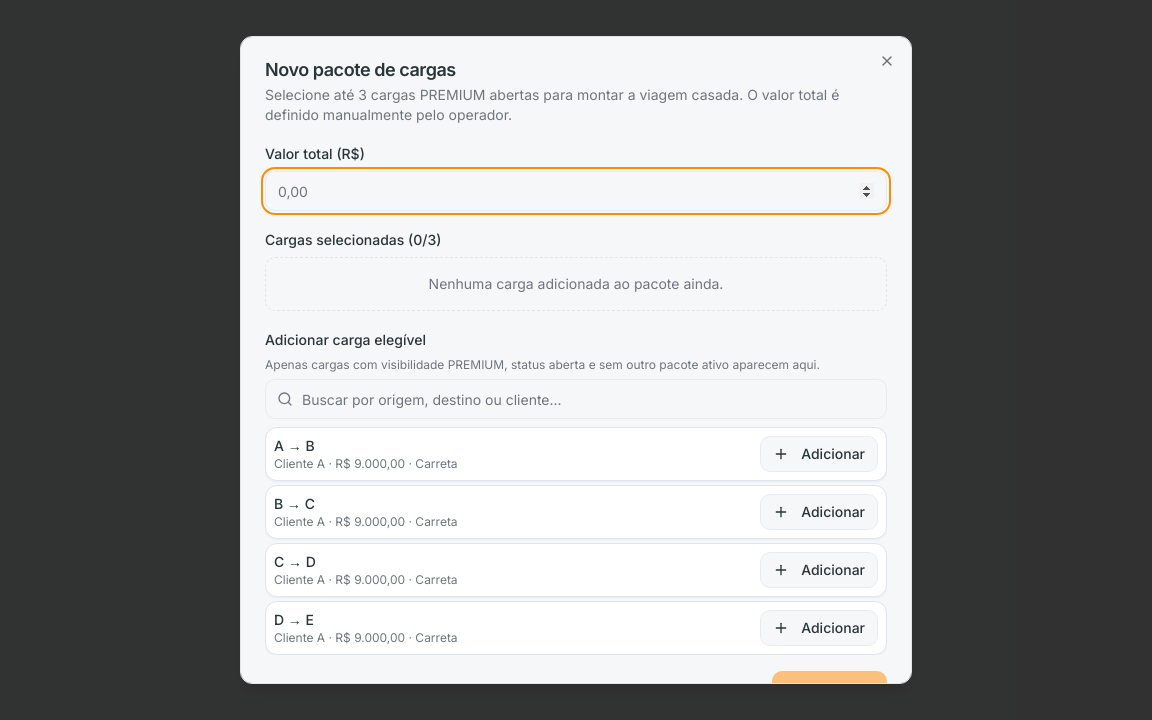
PacoteFormModal — validações client-side + orquestração de mutações › limite=3 — selector não permite adicionar 4a carga (hint + botão desabilitado)
This screenshot has width=1152, height=720.
Expected: the element with test id "carga-selector-list" is shown, [265, 427, 887, 655]
// Adicionar 3 cargas (limite)
What coordinates should you click on to do the following:
click the button with aria-label "adicionar carga"
I would click on:
 (819, 454)
Its box is [760, 436, 878, 472].
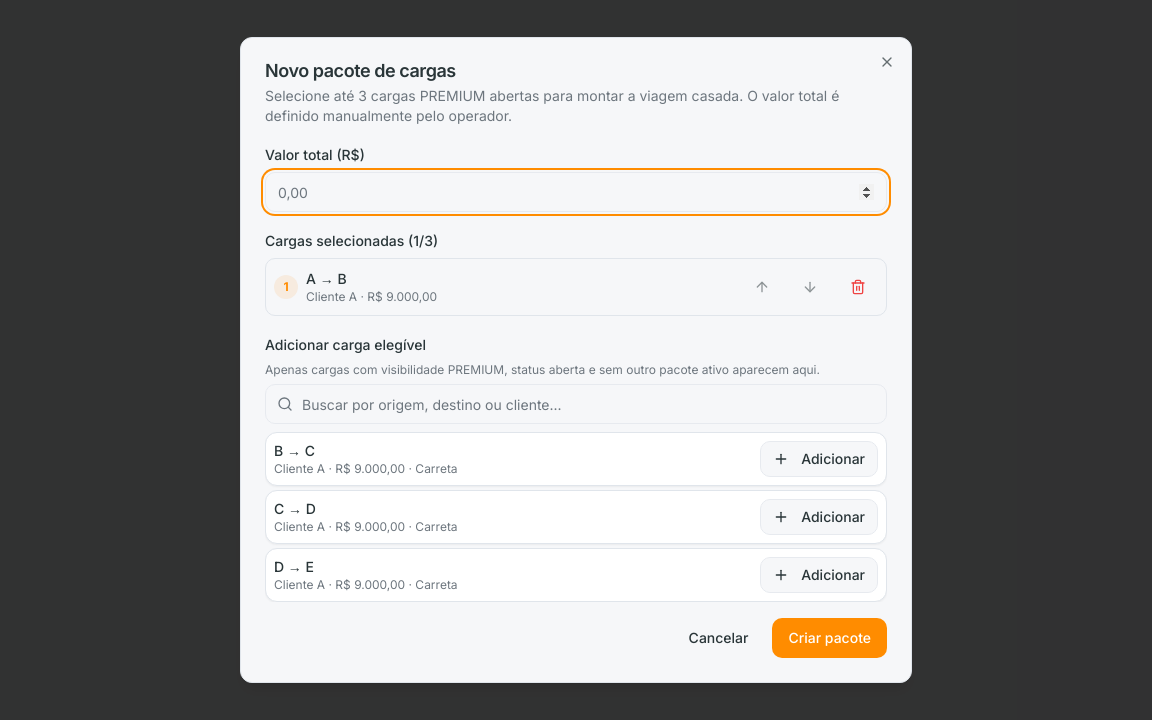
What coordinates should you click on to do the following:
click the button with aria-label "adicionar carga"
I would click on:
 (819, 459)
Its box is [760, 441, 878, 477].
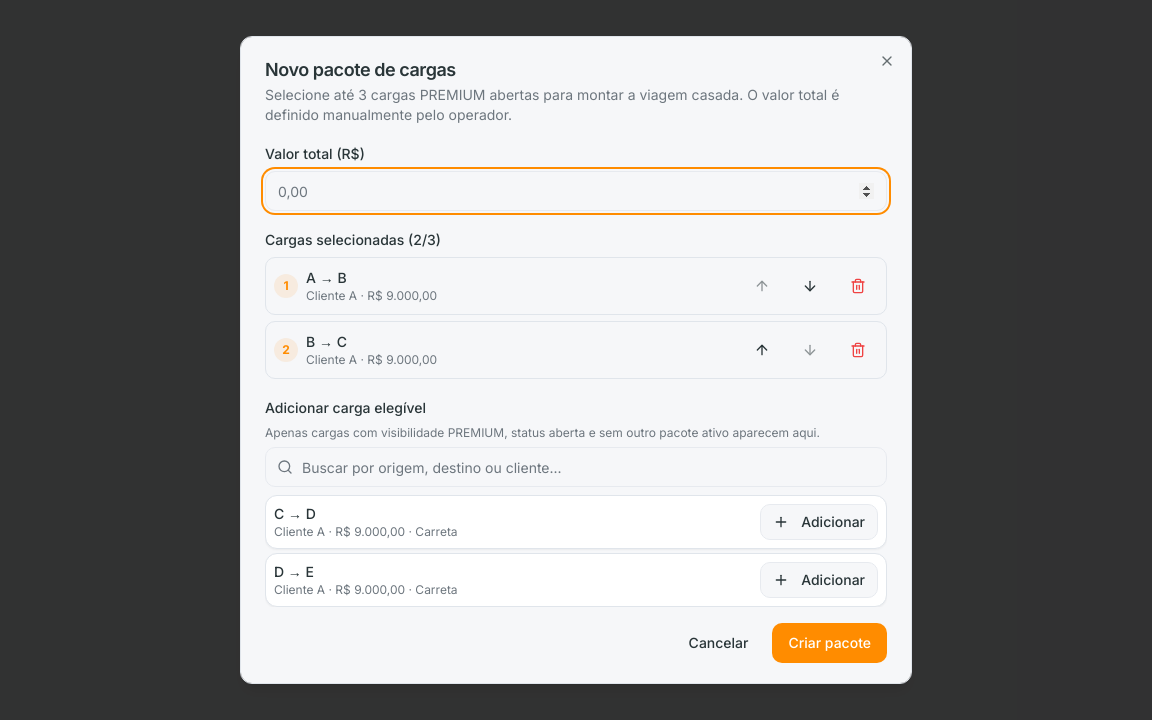
What coordinates should you click on to do the following:
click the button with aria-label "adicionar carga"
I would click on:
 (819, 522)
Its box is [760, 504, 878, 540].
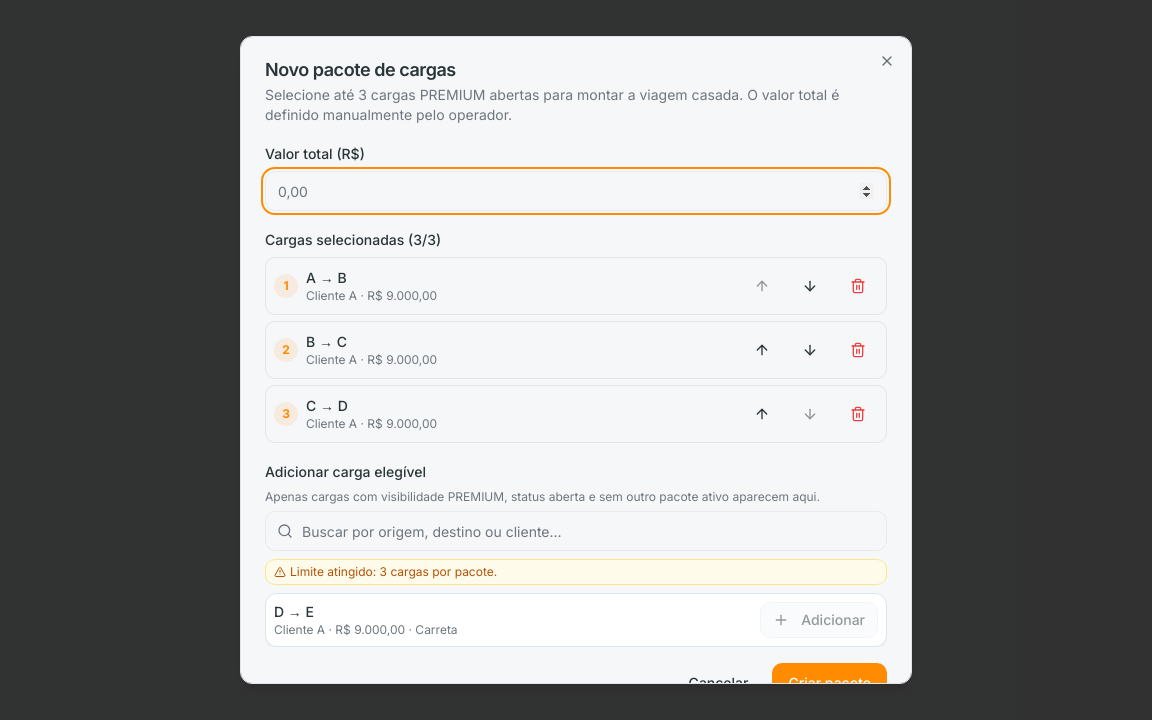
Result: the text "Limite atingido: 3 cargas por pacote." is shown at [265, 559, 887, 585]
Result: the button with aria-label "adicionar carga" is disabled at [760, 602, 878, 638]
